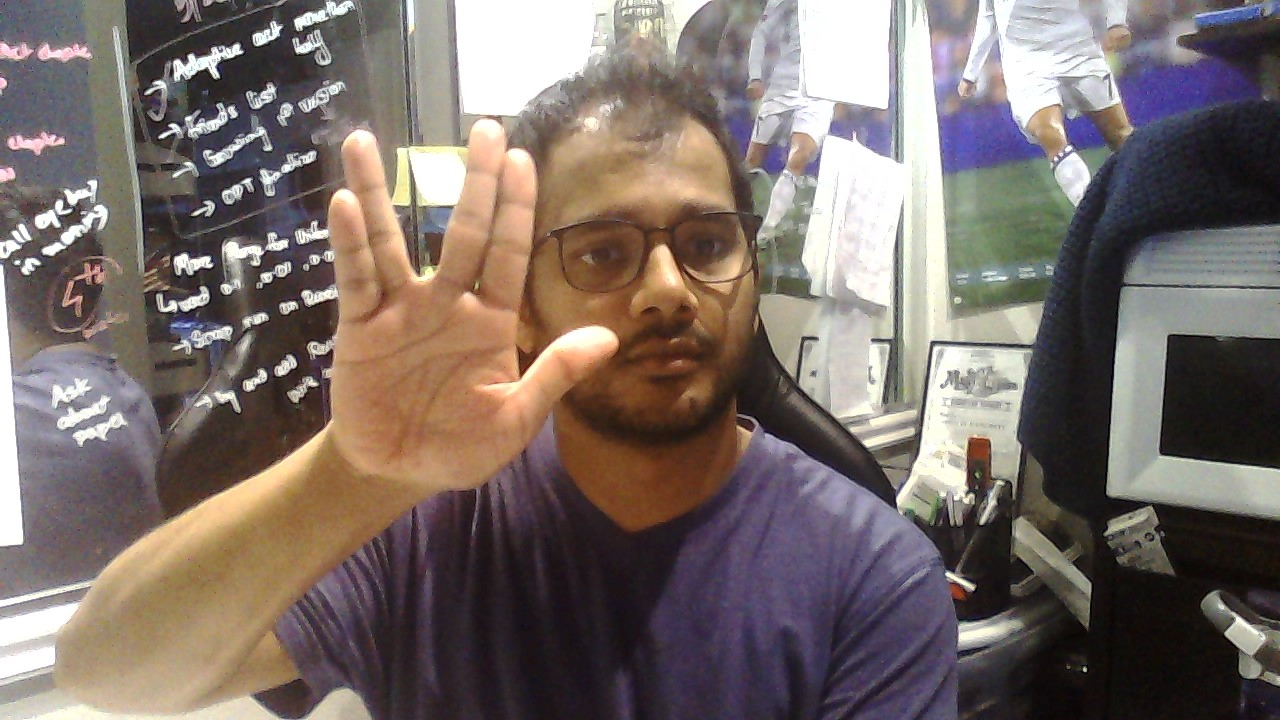LiveLong: (327, 117, 618, 490)
